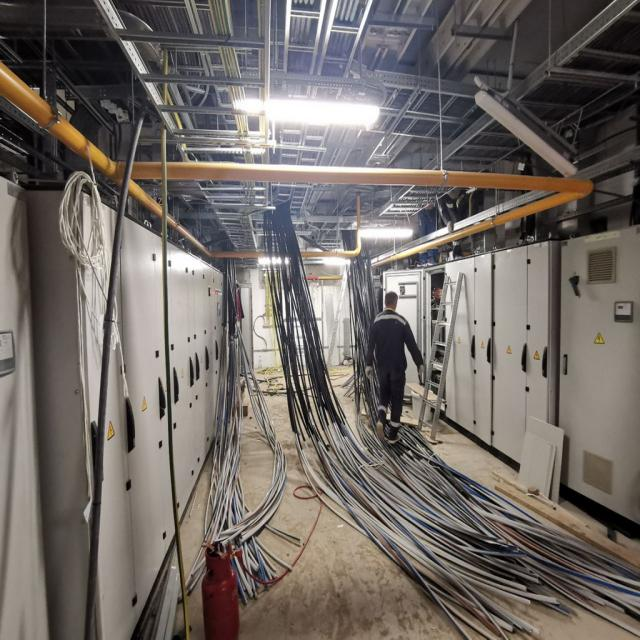NoHelmet: (383, 290, 401, 313)
